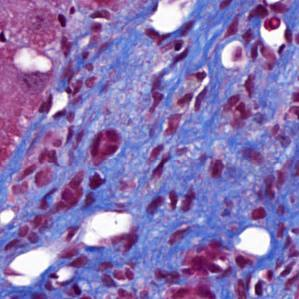inflammation: (147, 21, 197, 56), (244, 0, 290, 32), (36, 90, 78, 121), (248, 265, 280, 298)
